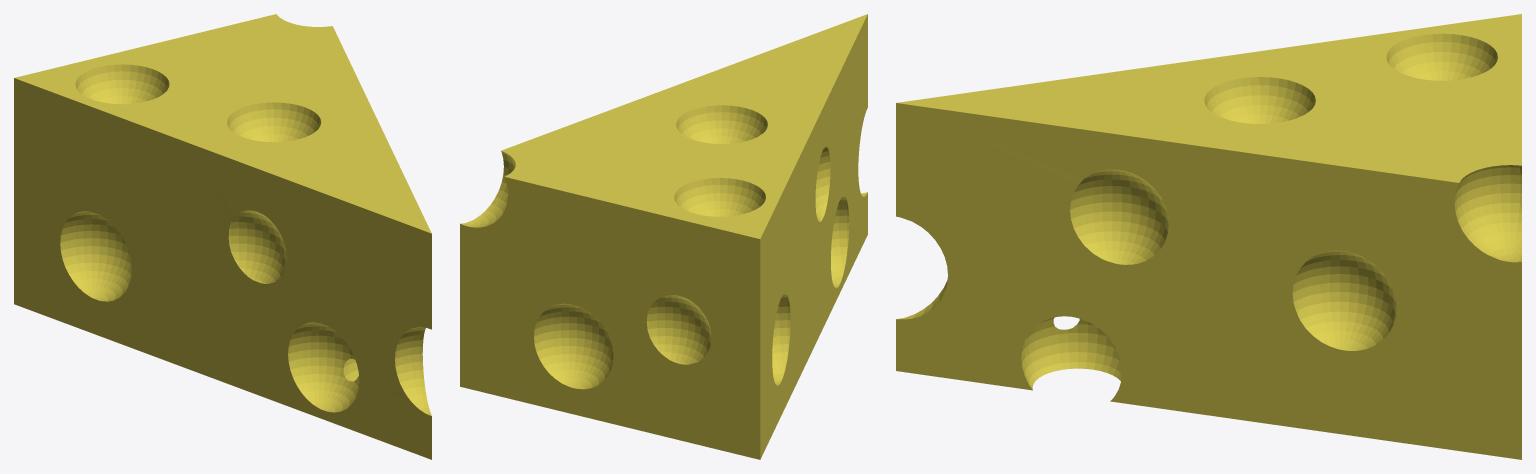
Rendered from cheese_1.glb.
3 renders of one model, left to right at view 1: azimuth 30°, elevation 25°; view 2: azimuth 150°, elevation 25°; view 3: azimuth 270°, elevation 25°, orthographic. The views are drawn at different scales.
Visible parts, largest first — view 1: Mesh_Mesh_head_geo.001_lambert2SG.001; view 2: Mesh_Mesh_head_geo.001_lambert2SG.001; view 3: Mesh_Mesh_head_geo.001_lambert2SG.001.
Part boxes in pixels (x1=…): Mesh_Mesh_head_geo.001_lambert2SG.001: x1=14, y1=14, x2=431, y2=459; Mesh_Mesh_head_geo.001_lambert2SG.001: x1=460, y1=14, x2=867, y2=459; Mesh_Mesh_head_geo.001_lambert2SG.001: x1=896, y1=14, x2=1521, y2=459.
Size of the model in its own units: 5.89 by 4.14 by 8.75.
